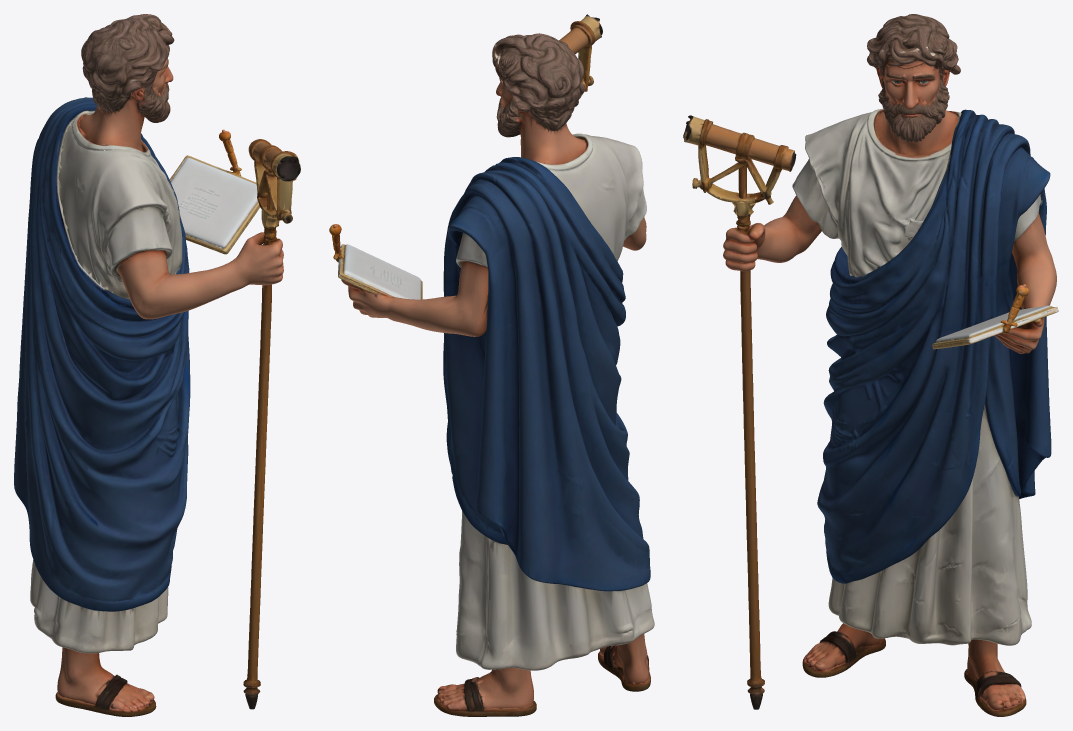
Rendered from Greek_Astronomer.min.glb.
3 renders of one model, left to right at view 1: azimuth 30°, elevation 25°; view 2: azimuth 150°, elevation 25°; view 3: azimuth 270°, elevation 25°, orthographic. The views are drawn at different scales.
Visible parts, largest first — view 1: tripo_node_d5d07f32-e74b-4c82-a915-531efddf0758; view 2: tripo_node_d5d07f32-e74b-4c82-a915-531efddf0758; view 3: tripo_node_d5d07f32-e74b-4c82-a915-531efddf0758.
Part boxes in pixels (<box>): tripo_node_d5d07f32-e74b-4c82-a915-531efddf0758: <box>14,14,300,716</box>; tripo_node_d5d07f32-e74b-4c82-a915-531efddf0758: <box>329,14,654,716</box>; tripo_node_d5d07f32-e74b-4c82-a915-531efddf0758: <box>683,14,1058,716</box>.
Bounding box in the file's own units: 0.4178 × 0.9803 × 0.4976.
1 material, 1 textured.
